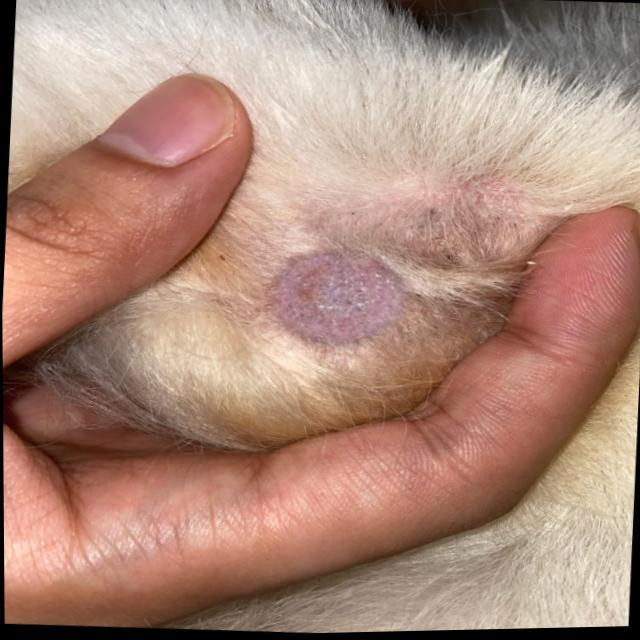ringworm: (251, 228, 437, 387)
